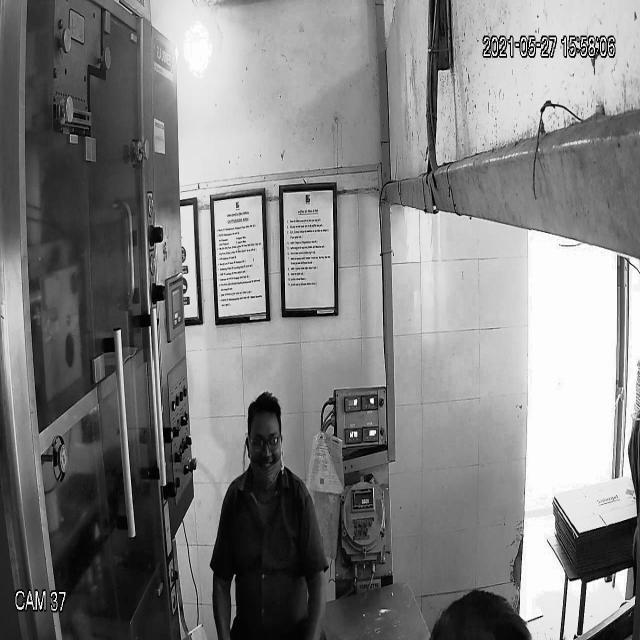glasses: (238, 428, 290, 459)
